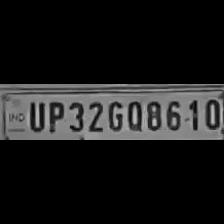0: (202, 96, 222, 130)
1: (183, 96, 200, 132)
2: (86, 99, 104, 133)
3: (66, 99, 84, 133)
6: (162, 96, 182, 132)
8: (144, 97, 162, 130)
G: (105, 97, 123, 132)
P: (46, 99, 64, 133)
Q: (125, 98, 143, 132)
U: (24, 99, 43, 131)
